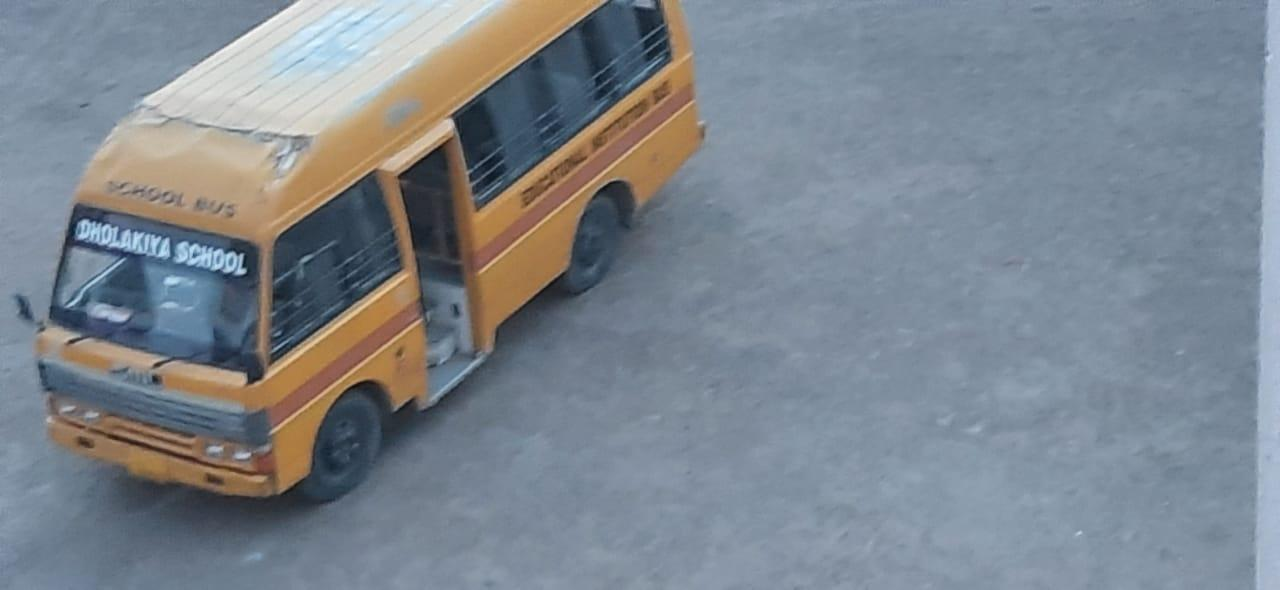Bus: (21, 5, 707, 506)
